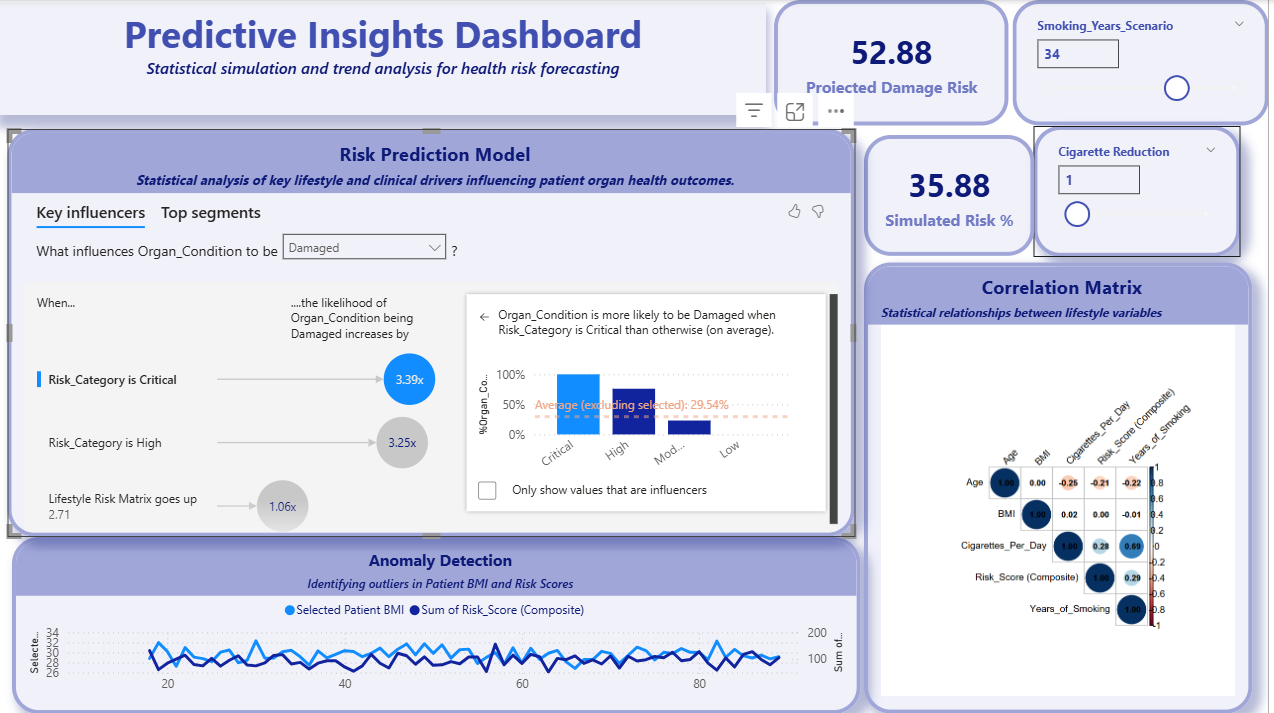

What the dashboard file says about the page in this screenshot:
{"tool":"powerbi","page":{"name":"Predictive Insights Dashboard","canvas":[1280,720],"ordinal":4},"visuals":[{"type":"textbox","box":[0,3.3,773.3,113.3],"z":0},{"type":"keyDriversVisual","title":"Risk Prediction Model","fields":{"ExplainBy":["Sum(health_dataset.Age)","Sum(health_dataset.BMI)","health_dataset.Smoking_Status","Sum(health_dataset.Years_of_Smoking)","health_dataset.Family_History_Risk","health_dataset.Risk_Category","health_dataset.Lifestyle Risk Matrix","Sum(health_dataset.Cigarettes_Per_Day)"],"Target":["health_dataset.Organ_Condition"]},"box":[8.1,130.1,855.1,411.3],"z":1000},{"type":"slicer","fields":{"Values":["Cigarette Reduction.Cigarette Reduction"]},"box":[1043.3,126.7,208.3,131.7],"z":3000},{"type":"lineChart","title":"Anomaly Detection","fields":{"Category":["health_dataset.Age"],"Y":["health_dataset.Selected Patient BMI"],"Y2":["Sum(health_dataset.Risk_Score (Composite))"]},"box":[11.4,541.4,856.8,178.8],"z":4000},{"type":"scriptVisual","fields":{"Values":["health_dataset.Age","health_dataset.BMI","health_dataset.Risk_Score (Composite)","health_dataset.Years_of_Smoking","health_dataset.Cigarettes_Per_Day"]},"box":[1489.6,0,433.8,822.2],"z":5000},{"type":"scriptVisual","title":"Correlation Matrix","fields":{"Values":["Sum(health_dataset.Age)","health_dataset.BMI","health_dataset.Cigarettes_Per_Day","health_dataset.Risk_Score (Composite)","health_dataset.Years_of_Smoking"]},"box":[871.7,265,391.7,455],"z":6000},{"type":"card","fields":{"Values":["health_dataset.Simulated Risk %"]},"box":[871.7,136.7,171.7,121.7],"z":7000},{"type":"card","fields":{"Values":["health_dataset.Projected Damage Risk"]},"box":[781.7,0,236.7,126.7],"z":8000},{"type":"slicer","fields":{"Values":["Smoking_Years_Scenario.Smoking_Years_Scenario"]},"box":[1021.7,0,258.3,126.7],"z":9000}]}

Visuals, with their boxes in screenshot pixels (x1, y1, x2, y2), scaled from the page's 1280x720 canvas onto the 1274x713 screenshot:
textbox: rect(0, 3, 770, 115)
"Risk Prediction Model" keyDriversVisual: rect(8, 129, 859, 536)
slicer - Cigarette Reduction.Cigarette Reduction: rect(1038, 125, 1246, 256)
"Anomaly Detection" lineChart: rect(11, 536, 864, 712)
"Correlation Matrix" scriptVisual: rect(868, 262, 1257, 712)
card - health_dataset.Simulated Risk %: rect(868, 135, 1039, 256)
card - health_dataset.Projected Damage Risk: rect(778, 0, 1014, 125)
slicer - Smoking_Years_Scenario.Smoking_Years_Scenario: rect(1017, 0, 1273, 125)
